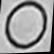no answer: (0, 0, 50, 51)
